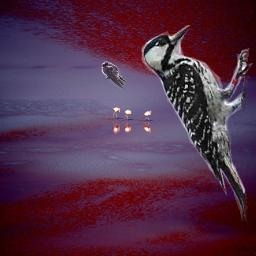Swallow: (101, 61, 127, 89)
Woodpecker: (140, 25, 253, 226)
